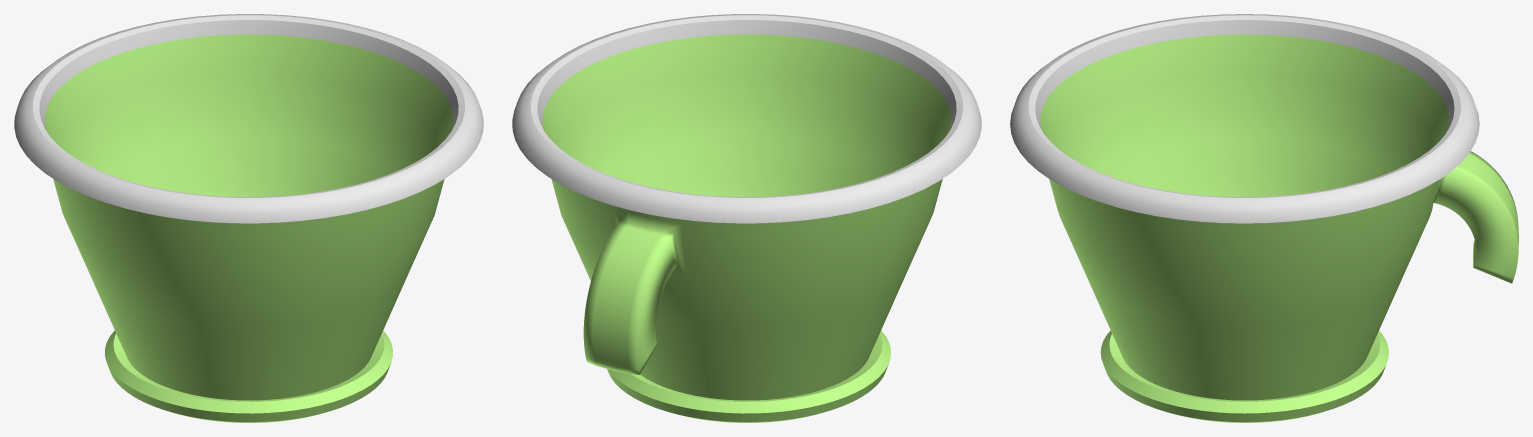
File: cup6.glb
The picture shows the model from 3 angles, left to right: view 1: azimuth 30°, elevation 25°; view 2: azimuth 150°, elevation 25°; view 3: azimuth 270°, elevation 25°; orthographic projection.
Parts seen in each view (by area): view 1: Cup6.001; view 2: Cup6.001; view 3: Cup6.001.
Part boxes in pixels (<box>): Cup6.001: <box>14,14,483,422</box>; Cup6.001: <box>512,14,981,422</box>; Cup6.001: <box>1010,14,1518,422</box>.
Size of the model in its own units: 1.43 by 0.8771 by 1.55.
